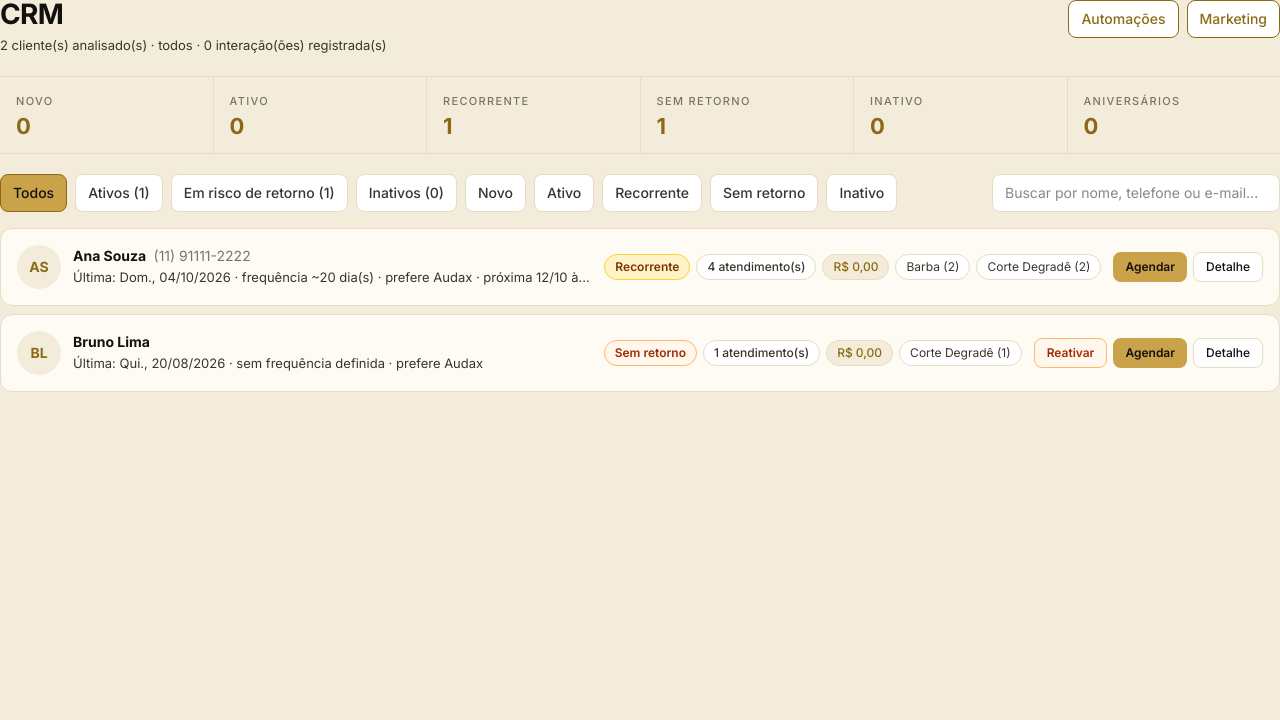
Test case: CRM — detalhe, interações e ações rápidas › ação rápida Agendar abre o modal de novo agendamento
This screenshot has width=1280, height=720.
What coordinates should you click on to do the following:
click the button "Agendar" in the row of "BL"
I would click on:
 (1150, 353)
Its box is x1=1113 y1=338 x2=1187 y2=368.
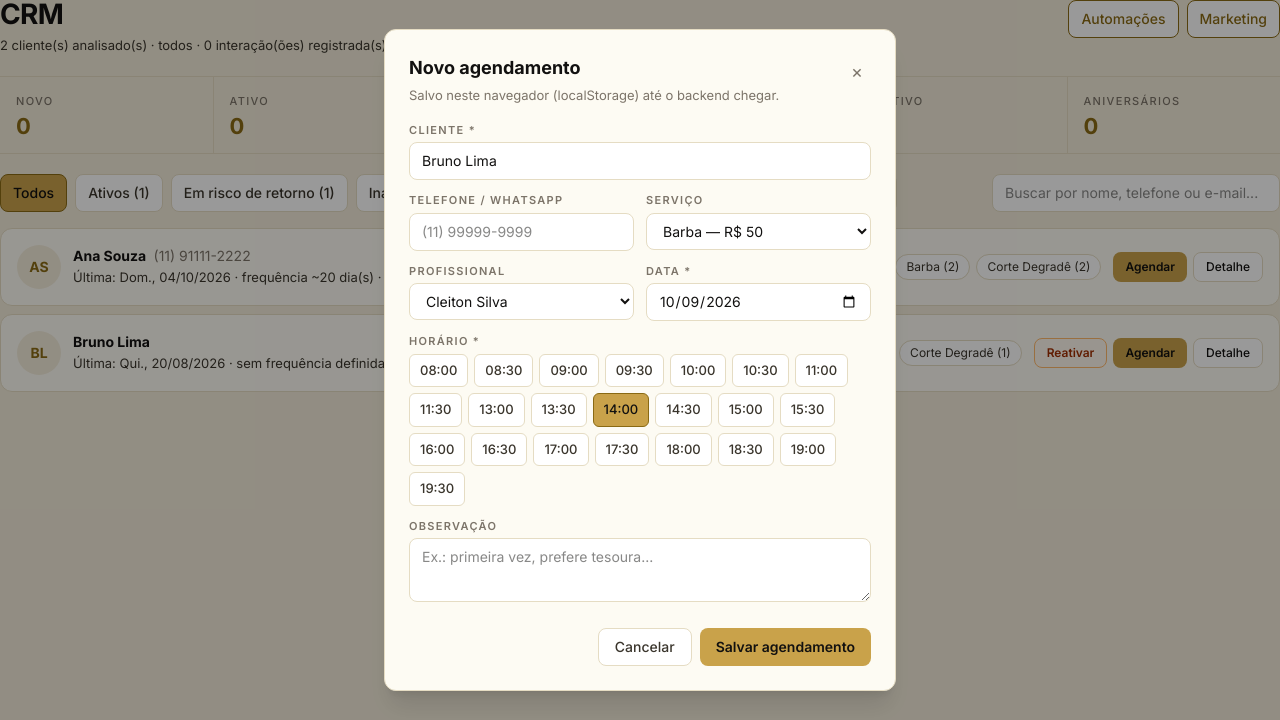
Check: the heading "Novo agendamento" is shown, box x1=409 y1=57 x2=581 y2=78
Check: the field labelled "Cliente *" holds "Bruno Lima", box x1=409 y1=142 x2=871 y2=180
